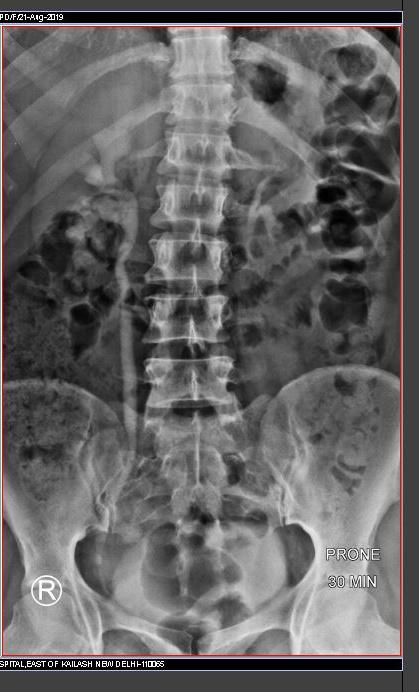bladder: (113, 526, 299, 654)
right kidney: (27, 78, 153, 268)
vertebrae: (168, 120, 242, 178)
